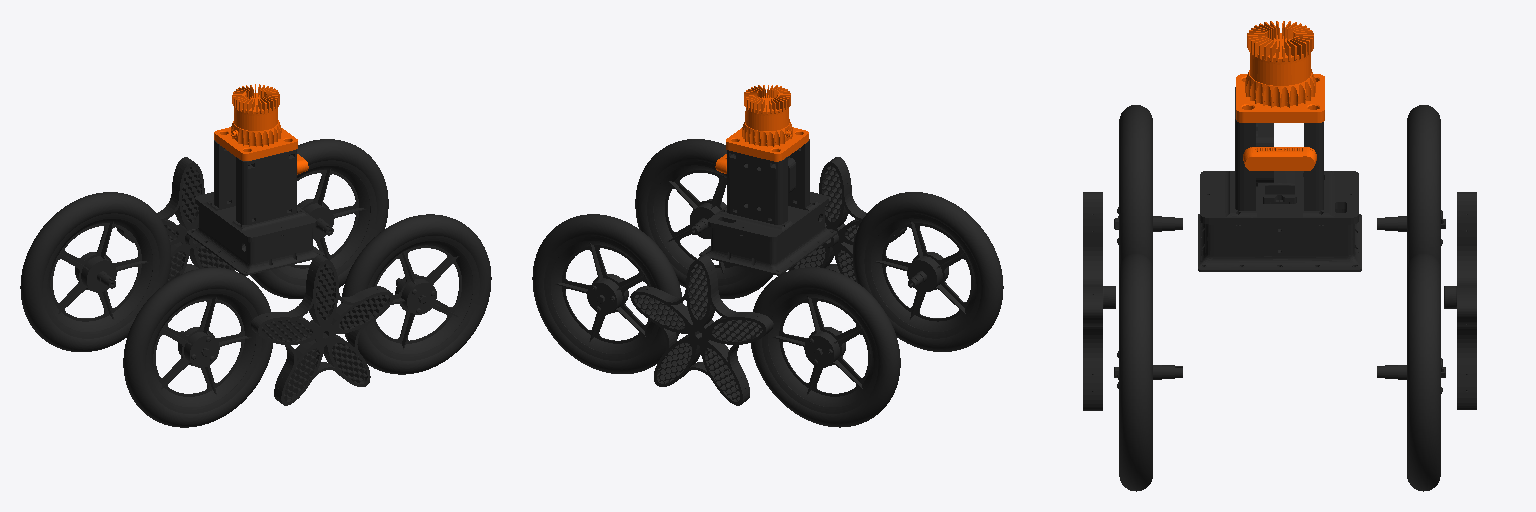
robot.urdf — espeleo:
<?xml version="1.0" ?>

<robot name="espeleo" xmlns:xacro="http://www.ros.org/wiki/xacro">


  <material name="black">
    <color rgba="0.0 0.0 0.0 1.0"/>
  </material>
  <material name="blue">
    <color rgba="0.0 0.0 0.8 1.0"/>
  </material>
  <material name="green">
    <color rgba="0.0 0.8 0.0 1.0"/>
  </material>
  <material name="grey">
    <color rgba="0.2 0.2 0.2 1.0"/>
  </material>
  <material name="orange">
    <color rgba="1.0 0.423529411765 0.0392156862745 1.0"/>
  </material>
  <material name="brown">
    <color rgba="0.870588235294 0.811764705882 0.764705882353 1.0"/>
  </material>
  <material name="red">
    <color rgba="0.8 0.0 0.0 1.0"/>
  </material>
  <material name="white">
    <color rgba="1.0 1.0 1.0 1.0"/>
  </material>


  <link name="base_link"/>
  <joint name="base_joint" type="fixed">
    <axis xyz="0 0 0"/>
    <origin rpy="0 0 0" xyz="0 0 .12 "/>
    <parent link="base_link"/>
    <child link="chassis"/>
  </joint>


  <link name="chassis">
    <collision>
      <origin rpy="0 0 0" xyz="0 0 0"/>
      <geometry>
        <box size="0.54 0.27 0.145"/>
      </geometry>
    </collision>
    <visual>
      <origin rpy="-1.57079632679 0 0" xyz="-0.283 -0.23 0.0725"/>
      <geometry>
        <mesh filename="package://espeleo_description/urdf/stl/Espeleo-22.STL" scale="0.001 0.001 0.001"/>
      </geometry>
      <material name="white"/>
    </visual>
    <inertial>
      <origin rpy="0 0 0" xyz="0 0 0.15"/>
      <mass value="0.5"/>
      <inertia ixx="0.01215" ixy="0" ixz="0" iyy="0.0030375" iyz="0" izz="0.0151875"/>
    </inertial>
  </link>



  <link name="left_front_wheel">
    <collision>
      <origin rpy="1.57079632679 0 0" xyz="0 0 0"/>
      <geometry>
        <cylinder length="0.043" radius="0.14"/>
      </geometry>
    </collision>
    <visual>
      <origin rpy="0 0 0" xyz="0 0 0"/>
      <geometry>
        <mesh filename="package://espeleo_description/urdf/stl/roda_esquerda.stl"/>
      </geometry>
      <material name="grey"/>
    </visual>
    <inertial>
      <origin rpy="1.57079632679 0 0 " xyz="0 0 0"/>
      <mass value="0.2"/>
      <inertia ixx="0.00101081666667" ixy="0" ixz="0" iyy="0.00101081666667" iyz="0" izz="0.00196"/>
    </inertial>
  </link>
  
  <joint name="left_front_wheel_joint" type="revolute">
    <parent link="chassis"/>
    <child link="left_front_wheel"/>
    <origin rpy="0 0 0" xyz="0.215 0.175 -0.01"/>
    <axis rpy="0 0 0" xyz="0 1 0"/>
    <limit command_effort="100" current="10" effort="80" gear_velocity="10" lower="-9.42" upper="9.42" velocity="15"/>   
    <joint_properties damping="0.0" friction="0.0"/>
  </joint>
  <transmission name="left_front_trans">
    <type>transmission_interface/SimpleTransmission</type>
    <joint name="left_front_wheel_joint">
      <hardwareInterface>EffortJointInterface</hardwareInterface>
    </joint>
    <actuator name="left_frontMotor">
      <hardwareInterface>EffortJointInterface</hardwareInterface>
      <mechanicalReduction>10</mechanicalReduction>
    </actuator>
  </transmission>



  <link name="left_middle_wheel">
    <collision>
      <origin rpy="0 0 0" xyz="-0.134 -0.025 -0.115"/>
      <geometry>
        <mesh filename="package://espeleo_description/urdf/stl/rodaEstrela.STL" scale="0.001 0.001 0.001"/>
      </geometry>
    </collision>
    <visual>
      <origin rpy="0 0 0" xyz="-0.134 -0.025 -0.115"/>
      <geometry>
        <mesh filename="package://espeleo_description/urdf/stl/rodaEstrela.STL" scale="0.001 0.001 0.001"/>
      </geometry>
      <material name="grey"/>
    </visual>
    <inertial>
      <origin rpy="1.57079632679 0 0 " xyz="0 0 0"/>
      <mass value="0.2"/>
      <inertia ixx="0.00101081666667" ixy="0" ixz="0" iyy="0.00101081666667" iyz="0" izz="0.00196"/>
    </inertial>
  </link>
  <joint name="left_middle_wheel_joint" type="revolute">
    <parent link="chassis"/>
    <child link="left_middle_wheel"/>
    <origin rpy="0 0 0" xyz="0.0 0.225 -0.01"/>
    <axis rpy="0 0 0" xyz="0 1 0"/>
    <limit command_effort="100" current="10" effort="80" gear_velocity="10" lower="-9.42" upper="9.42" velocity="15"/> 
    <joint_properties damping="0.0" friction="0.0"/>
  </joint>
  <transmission name="left_middle_trans">
    <type>transmission_interface/SimpleTransmission</type>
    <joint name="left_middle_wheel_joint">
      <hardwareInterface>EffortJointInterface</hardwareInterface>
    </joint>
    <actuator name="left_middleMotor">
      <hardwareInterface>EffortJointInterface</hardwareInterface>
      <mechanicalReduction>10</mechanicalReduction>
    </actuator>
  </transmission>

  <link name="left_back_wheel">
    <collision>
      <origin rpy="1.57079632679 0 0" xyz="0 0 0"/>
      <geometry>
        <cylinder length="0.043" radius="0.14"/>
      </geometry>
    </collision>
    <visual>
      <origin rpy="0 0 0" xyz="0 0 0"/>
      <geometry>
        <mesh filename="package://espeleo_description/urdf/stl/roda_esquerda.stl"/>
      </geometry>
      <material name="grey"/>
    </visual>
    <inertial>
      <origin rpy="1.57079632679 0 0 " xyz="0 0 0"/>
      <mass value="0.2"/>
      <inertia ixx="0.00101081666667" ixy="0" ixz="0" iyy="0.00101081666667" iyz="0" izz="0.00196"/>
    </inertial>
  </link>
  
  <joint name="left_back_wheel_joint" type="revolute">
    <parent link="chassis"/>
    <child link="left_back_wheel"/>
    <origin rpy="0 0 0" xyz="-0.212 0.175 -0.01"/>
    <axis rpy="0 0 0" xyz="0 1 0"/>
    <limit command_effort="100" current="10" effort="80" gear_velocity="10" lower="-9.42" upper="9.42" velocity="15"/> 
    <joint_properties damping="0.0" friction="0.0"/>
  </joint>
  <transmission name="left_back_trans">
    <type>transmission_interface/SimpleTransmission</type>
    <joint name="left_back_wheel_joint">
      <hardwareInterface>EffortJointInterface</hardwareInterface>
    </joint>
    <actuator name="left_backMotor">
      <hardwareInterface>EffortJointInterface</hardwareInterface>
      <mechanicalReduction>10</mechanicalReduction>
    </actuator>
  </transmission>


  <link name="right_front_wheel">
    <collision>
      <origin rpy="1.57079632679 0 0" xyz="0 0 0"/>
      <geometry>
        <cylinder length="0.043" radius="0.14"/>
      </geometry>
    </collision>
    <visual>
      <origin rpy="3.1415 0 3.14159265359" xyz="0 0 0"/>
      <geometry>
        <mesh filename="package://espeleo_description/urdf/stl/roda_esquerda.stl"/>
      </geometry>
      <material name="grey"/>
    </visual>
    <inertial>
      <origin rpy="1.57079632679 0 0 " xyz="0 0 0"/>
      <mass value="0.2"/>
      <inertia ixx="0.00101081666667" ixy="0" ixz="0" iyy="0.00101081666667" iyz="0" izz="0.00196"/>
    </inertial>
  </link>
  
  <joint name="right_front_wheel_joint" type="revolute">
    <parent link="chassis"/>
    <child link="right_front_wheel"/>
    <origin rpy="3.1415 0 0" xyz="0.215 -0.175 -0.01"/>
    <axis rpy="0 0 0" xyz="0 1 0"/>
    <limit command_effort="100" current="10" effort="80" gear_velocity="10" lower="-9.42" upper="9.42" velocity="15"/> 
    <joint_properties damping="0.0" friction="0.0"/>
  </joint>
  <transmission name="right_front_trans">
    <type>transmission_interface/SimpleTransmission</type>
    <joint name="right_front_wheel_joint">
      <hardwareInterface>EffortJointInterface</hardwareInterface>
    </joint>
    <actuator name="right_frontMotor">
      <hardwareInterface>EffortJointInterface</hardwareInterface>
      <mechanicalReduction>10</mechanicalReduction>
    </actuator>
  </transmission>

  <link name="right_middle_wheel">
    <collision>
      <origin rpy="3.1415 0 3.14159265359" xyz="0.134 -0.025 0.115"/>
      <geometry>
        <mesh filename="package://espeleo_description/urdf/stl/rodaEstrela.STL" scale="0.001 0.001 0.001"/>
      </geometry>
    </collision>
    <visual>
      <origin rpy="3.1415 0 3.14159265359" xyz="0.134 -0.025 0.115"/>
      <geometry>
        <mesh filename="package://espeleo_description/urdf/stl/rodaEstrela.STL" scale="0.001 0.001 0.001"/>
      </geometry>
      <material name="grey"/>
    </visual>
    <inertial>
      <origin rpy="1.57079632679 0 0 " xyz="0 0 0"/>
      <mass value="0.2"/>
      <inertia ixx="0.00101081666667" ixy="0" ixz="0" iyy="0.00101081666667" iyz="0" izz="0.00196"/>
    </inertial>
  </link>
  
  <joint name="right_middle_wheel_joint" type="revolute">
    <parent link="chassis"/>
    <child link="right_middle_wheel"/>
    <origin rpy="3.1415 0 0" xyz="0.0 -0.225 -0.01"/>
    <axis rpy="0 0 0" xyz="0 1 0"/>
    <limit command_effort="100" current="10" effort="80" gear_velocity="10" lower="-9.42" upper="9.42" velocity="15"/> 
    <joint_properties damping="0.0" friction="0.0"/>
  </joint>
  <transmission name="right_middle_trans">
    <type>transmission_interface/SimpleTransmission</type>
    <joint name="right_middle_wheel_joint">
      <hardwareInterface>EffortJointInterface</hardwareInterface>
    </joint>
    <actuator name="right_middleMotor">
      <hardwareInterface>EffortJointInterface</hardwareInterface>
      <mechanicalReduction>10</mechanicalReduction>
    </actuator>
  </transmission>
  <link name="right_back_wheel">
    <collision>
      <origin rpy="1.57079632679 0 0" xyz="0 0 0"/>
      <geometry>
        <cylinder length="0.043" radius="0.14"/>
      </geometry>
    </collision>
    <visual>
      <origin rpy="0 0 0" xyz="0 0 0"/>
      <geometry>
        <mesh filename="package://espeleo_description/urdf/stl/roda_esquerda.stl" />
      </geometry>
      <material name="grey"/>
    </visual>
    <inertial>
      <origin rpy="1.57079632679 0 0 " xyz="0 0 0"/>
      <mass value="0.2"/>
      <inertia ixx="0.00101081666667" ixy="0" ixz="0" iyy="0.00101081666667" iyz="0" izz="0.00196"/>
    </inertial>
  </link>
  
  <joint name="right_back_wheel_joint" type="revolute">
    <parent link="chassis"/>
    <child link="right_back_wheel"/>
    <origin rpy="3.1415 0 0" xyz="-0.212 -0.175 -0.01"/>
    <axis rpy="0 0 0" xyz="0 1 0"/>
    <limit command_effort="100" current="10" effort="80" gear_velocity="10" lower="-9.42" upper="9.42" velocity="15"/> 
    <joint_properties damping="0.0" friction="0.0"/>
  </joint>
  <transmission name="right_back_trans">
    <type>transmission_interface/SimpleTransmission</type>
    <joint name="right_back_wheel_joint">
      <hardwareInterface>EffortJointInterface</hardwareInterface>
    </joint>
    <actuator name="right_backMotor">
      <hardwareInterface>EffortJointInterface</hardwareInterface>
      <mechanicalReduction>10</mechanicalReduction>
    </actuator>
  </transmission>

  <!-- sensor_tower -->
  <joint name="sensor_tower_joint" type="fixed">
    <axis xyz="0 1 0"/>
    <origin rpy="0 0 0" xyz=".0 .0 .055 "/>
    <parent link="chassis"/>
    <child link="sensor_tower"/>
  </joint>
  <link name="sensor_tower">
    <collision>
      <origin rpy="0 0 0" xyz="0 0 0.109"/>
      <geometry>
        <box size="0.19 0.19 0.18"/>
      </geometry>
    </collision>
    <visual>
      <origin rpy="1.57079632679 0 0" xyz="-0.08 0.2 0"/>
      <geometry>
        <mesh filename="package://espeleo_description/urdf/stl/Torre.STL" scale="0.001 0.001 0.001"/>
      </geometry>
      <material name="grey"/>
    </visual>
    <inertial>
      <mass value="2"/>
      <origin rpy="0 0 0" xyz="0 0 0"/>
      <inertia ixx="1e-6" ixy="0" ixz="0" iyy="1e-6" iyz="0" izz="1e-6"/>
    </inertial>
  </link>

  <!-- Caso necessite utilizar a TF da IMU na torre altere o parent link para (<parent link="chassis"/>) e utilize as seguintes coordenadas de origin (<origin rpy="0 0 0" xyz="-0.025 -0.015 .087"/>) -->

  <!-- Imu --> 
  <joint name="imu_joint" type="fixed">
    <axis xyz="0 1 0"/>
    <origin rpy="0 0 0" xyz="0.1275 -0.0175 0.0445"/> 
    <parent link="chassis"/>
    <child link="imu_link"/>
  </joint>
  <link name="imu_link"/>

  <!-- Laser Lidar -->
  <joint name="laser_joint" type="fixed">
    <axis xyz="0 0 0"/>
    <origin rpy="0 0 0" xyz="0 0 .205 "/>
    <parent link="sensor_tower"/>
    <child link="os1_sensor"/>
  </joint>
  <link name="os1_sensor">
    <collision>
      <origin rpy="0 0 0" xyz="0 0 0.045"/>
      <geometry>
        <box size="0.13 0.13 0.095"/>
      </geometry>
    </collision>
    <visual>
      <origin rpy="1.57079632679 0 1.57079632679" xyz="-0.09 -0.054 -0.01"/>
      <geometry>
        <mesh filename="package://espeleo_description/urdf/stl/Lidar.STL" scale="0.001 0.001 0.001"/>
      </geometry>
      <material name="orange"/>
    </visual>
  </link>


  <!-- Camera T265  Nao se utiliza esta TF este link foi criado apenas com finalidade de visualizacao-->
  <joint name="realsense_t265_joint" type="fixed">
    <axis xyz="0 0 0"/>
    <origin rpy="-1.57 3.1415 1.57" xyz="0.06 0 .18 "/>
    <parent link="sensor_tower"/>
    <child link="only_visual_t265"/>
  </joint>
  <link name="only_visual_t265">
    <collision>
      <origin rpy="0 0 0" xyz="0 0 0"/>
      <geometry>
        <box size="0 0 0"/>
      </geometry>
    </collision>
    <visual>
      <origin rpy="0 3.1415 0" xyz="0.05 -0.012 0.004"/>
      <geometry>
        <mesh filename="package://espeleo_description/urdf/stl/realsense_t265.STL" scale="0.001 0.001 0.001"/>
      </geometry>
      <material name="orange"/>
    </visual>
  </link>


  <!-- Camera D435i -->
  <joint name="realsense_d435_joint" type="fixed">
    <axis xyz="0 0 0"/>
     <origin rpy="-1.57 0 -1.57" xyz="0.06 0 .152 "/> 
    <parent link="sensor_tower"/>
    <child link="d435i_link"/>
  </joint>
  <link name="d435i_link">
    <collision>
      <origin rpy="0 0 3.14" xyz="0.01 0 0"/>
      <geometry>
        <box size="0 0 0"/>
      </geometry>
    </collision>
    <visual>
      <origin rpy="0 0 0" xyz="-0.045 -0.0125 -0.005"/>
      <geometry>
        <mesh filename="package://espeleo_description/urdf/stl/realsense_d435.STL" scale="0.001 0.001 0.001"/>
      </geometry>
      <material name="orange"/>
    </visual>
  </link>

  <!-- Camera D435i simulada -->
  <joint name="realsense_d435_sim_joint" type="fixed">
    <axis xyz="0 0 0"/>
     <origin rpy="0 0 3.1415" xyz="0 0 0"/> 
    <parent link="d435i_link"/>
    <child link="d435i_sim_link"/>
  </joint>
  <link name="d435i_sim_link">
  </link>


<!-- Gazebo -->

  <gazebo reference="base_link">
    <material>Gazebo/White</material>
  </gazebo>
  <gazebo>
    <plugin filename="libgazebo_ros_control.so" name="gazebo_ros_control">
      <robotNamespace>/espeleo</robotNamespace>
    </plugin>
  </gazebo>

  <gazebo>
    <plugin filename="libdiffdrive_plugin_multi_wheel.so" name="diffdrive_plugin_multiwheel">
      <alwaysOn>true</alwaysOn>
      <updateRate>100.0</updateRate>
      <leftJoints>left_front_wheel_joint left_middle_wheel_joint left_back_wheel_joint</leftJoints>
      <rightJoints>right_front_wheel_joint right_middle_wheel_joint right_back_wheel_joint</rightJoints>
      <!-- <wheelSeparation>${chassisWidth+wheelWidth}</wheelSeparation> THis is the right one, but the robot takes too much time to turn -->
      <wheelSeparation>1</wheelSeparation>
      <wheelDiameter>0.28</wheelDiameter>
      <torque>1000000</torque>
      <position name="position_iface_2"/>
      <robotBaseFrame>robot_footprint</robotBaseFrame>
      <commandTopic>/cmd_vel</commandTopic>
      <publishOdometryTf>1</publishOdometryTf>
      <publishOdometryMsg>1</publishOdometryMsg>
    </plugin>
  </gazebo>
  <gazebo reference="camera">
    <material>Gazebo/Green</material>
    <sensor name="camera1" type="camera">
      <update_rate>30.0</update_rate>
      <camera name="head">
        <horizontal_fov>1.3962634</horizontal_fov>
        <image>
          <width>800</width>
          <height>800</height>
          <format>R8G8B8</format>
        </image>
        <clip>
          <near>0.02</near>
          <far>300</far>
        </clip>
      </camera>
      <plugin filename="libgazebo_ros_camera.so" name="camera_controller">
        <alwaysOn>true</alwaysOn>
        <updateRate>0.0</updateRate>
        <cameraName>espeleo/camera1</cameraName>
        <imageTopicName>image_raw</imageTopicName>
        <cameraInfoTopicName>camera_info</cameraInfoTopicName>
        <frameName>camera</frameName>
        <hackBaseline>0.07</hackBaseline>
        <distortionK1>0.0</distortionK1>
        <distortionK2>0.0</distortionK2>
        <distortionK3>0.0</distortionK3>
        <distortionT1>0.0</distortionT1>
        <distortionT2>0.0</distortionT2>
      </plugin>
    </sensor>
  </gazebo>

  <!-- hokuyo -->
  <gazebo reference="hokuyo">
    <sensor name="head_hokuyo_sensor" type="ray">
      <pose>0 0 0 0 0 0</pose>
      <visualize>false</visualize>
      <update_rate>40</update_rate>
      <ray>
        <scan>
          <horizontal>
            <samples>720</samples>
            <resolution>1</resolution>
            <min_angle>-1.570796</min_angle>
            <max_angle>1.570796</max_angle>
          </horizontal>
        </scan>
        <range>
          <min>0.20</min>
          <max>30.0</max>
          <resolution>0.01</resolution>
        </range>
        <noise>
          <type>gaussian</type>
          <!-- Noise parameters based on published spec for Hokuyo laser

               achieving "+-30mm" accuracy at range < 10m.  A mean of 0.0m and

               stddev of 0.01m will put 99.7% of samples within 0.03m of the true

               reading. -->
          <mean>0.0</mean>
          <stddev>0.01</stddev>
        </noise>
      </ray>
      <plugin filename="libgazebo_ros_laser.so" name="gazebo_ros_head_hokuyo_controller">
        <topicName>/espeleo/laser/scan</topicName>
        <frameName>hokuyo</frameName>
      </plugin>
    </sensor>
  </gazebo>

<gazebo reference="left_front_wheel">
    <mu1 value="1"/>
    <mu2 value="1"/>
    <kp value="1000000.0"/>
    <kd value="10.0"/>
    <fdir1 value="0 0 1"/>
    <minDepth>0.001</minDepth>
    <maxContacts>1</maxContacts>
    <!--maxVel>1.0</maxVel-->
    <material>Gazebo/Red</material>
  </gazebo>

<gazebo reference="left_middle_wheel">
    <mu1 value="1"/>
    <mu2 value="1"/>
    <kp value="1000000.0"/>
    <kd value="10.0"/>
    <fdir1 value="0 0 1"/>
    <minDepth>0.001</minDepth>
    <maxContacts>1</maxContacts>
    <!--maxVel>1.0</maxVel-->
    <material>Gazebo/Red</material>
</gazebo>

<gazebo reference="left_back_wheel">
    <mu1 value="1"/>
    <mu2 value="1"/>
    <kp value="1000000.0"/>
    <kd value="10.0"/>
    <fdir1 value="0 0 1"/>
    <minDepth>0.001</minDepth>
    <maxContacts>1</maxContacts>
    <!--maxVel>1.0</maxVel-->
    <material>Gazebo/Red</material>
  </gazebo>


<gazebo reference="right_front_wheel">
    <mu1 value="1"/>
    <mu2 value="1"/>
    <kp value="1000000.0"/>
    <kd value="10.0"/>
    <fdir1 value="0 0 1"/>
    <minDepth>0.001</minDepth>
    <maxContacts>1</maxContacts>
    <!--maxVel>1.0</maxVel-->
    <material>Gazebo/Red</material>
</gazebo>

<gazebo reference="right_middle_wheel">
    <mu1 value="1"/>
    <mu2 value="1"/>
    <kp value="1000000.0"/>
    <kd value="10.0"/>
    <fdir1 value="0 0 1"/>
    <minDepth>0.001</minDepth>
    <maxContacts>1</maxContacts>
    <!--maxVel>1.0</maxVel-->
    <material>Gazebo/Red</material>
  </gazebo>

<gazebo reference="right_back_wheel">
    <mu1 value="1"/>
    <mu2 value="1"/>
    <kp value="1000000.0"/>
    <kd value="10.0"/>
    <fdir1 value="0 0 1"/>
    <minDepth>0.001</minDepth>
    <maxContacts>1</maxContacts>
    <!--maxVel>1.0</maxVel-->
    <material>Gazebo/Red</material>
  </gazebo>
</robot>

--- Facts derived from the render (not from the file) ---
Views: 3 orthographic renders of the robot side by side, from view 1: azimuth 30°, elevation 25°; view 2: azimuth 150°, elevation 25°; view 3: azimuth 270°, elevation 25°.
Robot: espeleo — 14 links, 13 joints (6 revolute, 7 fixed); root link base_link; default pose: every joint at zero.
Visible links, largest first — view 1: right_back_wheel, left_back_wheel, right_front_wheel, sensor_tower, right_middle_wheel, left_front_wheel, os1_sensor, left_middle_wheel; view 2: left_back_wheel, right_back_wheel, left_front_wheel, sensor_tower, left_middle_wheel, right_front_wheel, os1_sensor, right_middle_wheel; view 3: sensor_tower, left_front_wheel, right_front_wheel, os1_sensor, right_back_wheel, left_back_wheel, right_middle_wheel, left_middle_wheel, d435i_link.
Link boxes in pixels (x1=…): right_back_wheel: x1=123, y1=267, x2=272, y2=427; left_back_wheel: x1=20, y1=192, x2=170, y2=351; right_front_wheel: x1=341, y1=214, x2=491, y2=374; sensor_tower: x1=187, y1=140, x2=324, y2=275; right_middle_wheel: x1=251, y1=255, x2=393, y2=405; left_front_wheel: x1=250, y1=139, x2=388, y2=298; os1_sensor: x1=214, y1=84, x2=297, y2=160; left_middle_wheel: x1=117, y1=157, x2=234, y2=281; left_back_wheel: x1=751, y1=267, x2=900, y2=427; right_back_wheel: x1=853, y1=192, x2=1003, y2=351; left_front_wheel: x1=532, y1=214, x2=682, y2=373; sensor_tower: x1=699, y1=139, x2=837, y2=275; left_middle_wheel: x1=630, y1=255, x2=773, y2=405; right_front_wheel: x1=635, y1=139, x2=772, y2=298; os1_sensor: x1=726, y1=85, x2=808, y2=161; right_middle_wheel: x1=789, y1=157, x2=906, y2=281; sensor_tower: x1=1198, y1=87, x2=1361, y2=271; left_front_wheel: x1=1377, y1=253, x2=1445, y2=491; right_front_wheel: x1=1114, y1=253, x2=1182, y2=491; os1_sensor: x1=1236, y1=21, x2=1324, y2=122; right_back_wheel: x1=1114, y1=105, x2=1182, y2=267; left_back_wheel: x1=1377, y1=105, x2=1445, y2=266; right_middle_wheel: x1=1083, y1=192, x2=1115, y2=410; left_middle_wheel: x1=1444, y1=192, x2=1476, y2=409; d435i_link: x1=1243, y1=147, x2=1316, y2=170.
Bounding box of the posed robot: 0.717 × 0.48 × 0.4995 m (x, y, z).
Meshes: 7 distinct files referenced, 9 mesh visuals loaded (5 binary STL); not drawn: 2 (reference not matched to a file when rendering).
